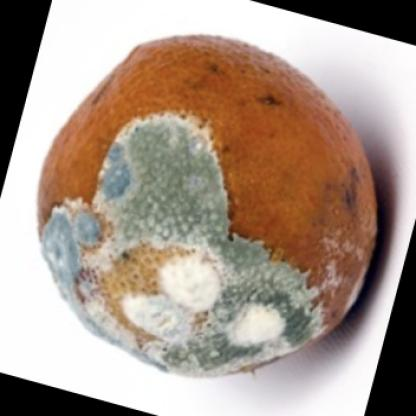rotten: (37, 37, 378, 380)
